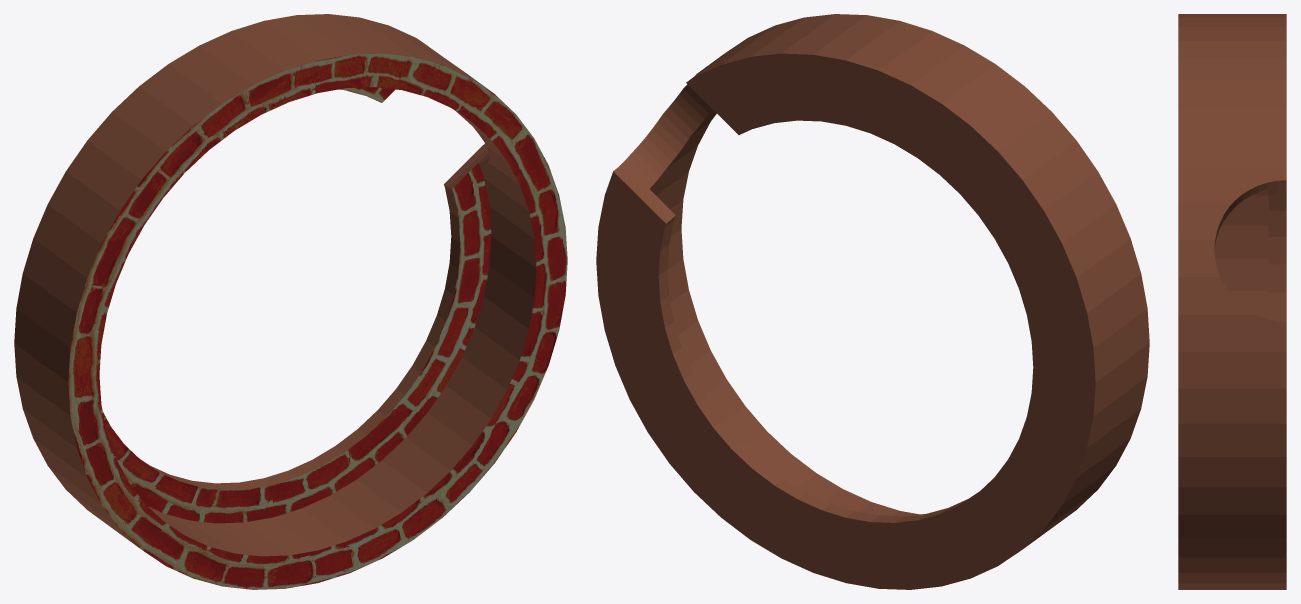
The model's file is pool_001.obj.
The picture shows the model from 3 angles, left to right: view 1: azimuth 30°, elevation 25°; view 2: azimuth 150°, elevation 25°; view 3: azimuth 270°, elevation 25°; orthographic projection.
Bounding box in the file's own units: 16 × 16 × 3.
